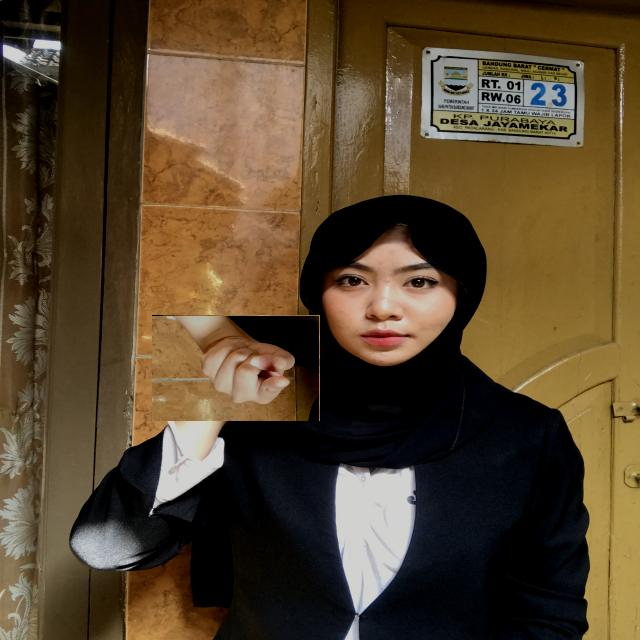kamu: (152, 315, 320, 421)
